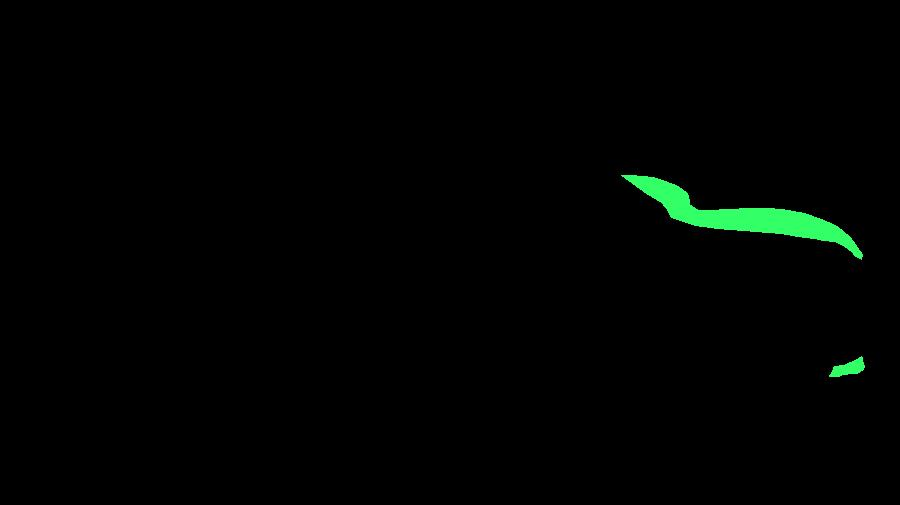Broken part: (621, 175, 862, 259), (829, 356, 864, 376)
